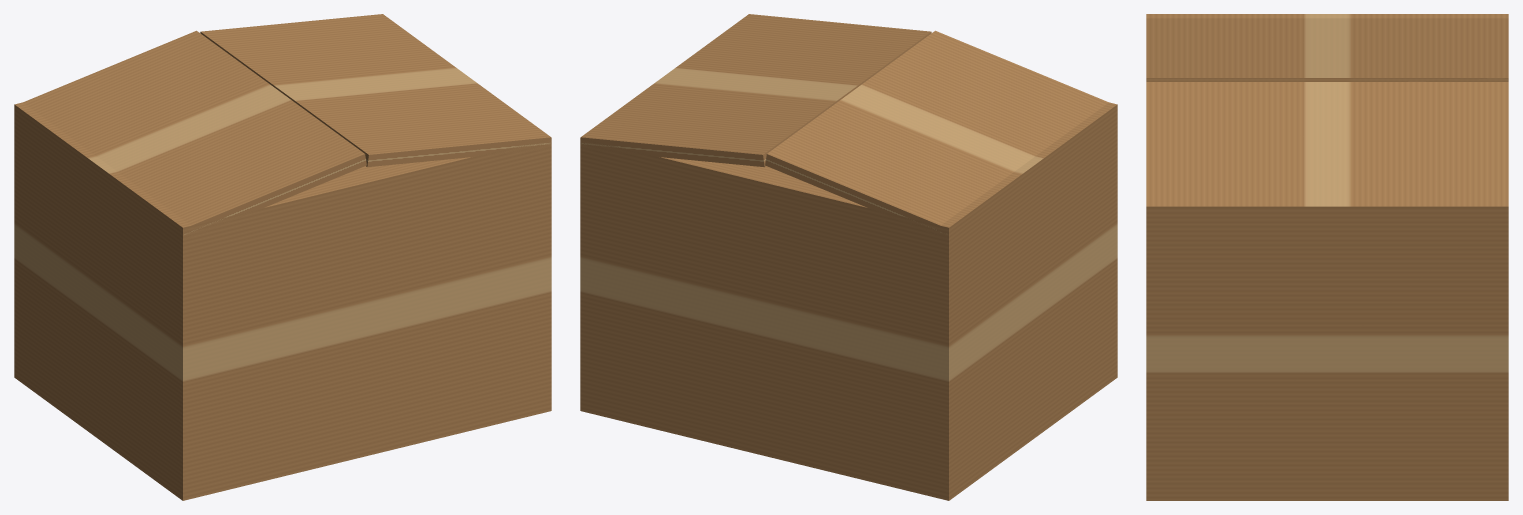
File: ch5_prop_cardboard_box.glb
The picture shows the model from 3 angles, left to right: view 1: azimuth 30°, elevation 25°; view 2: azimuth 150°, elevation 25°; view 3: azimuth 270°, elevation 25°; orthographic projection. The views are drawn at different scales.
Visible parts, largest first — view 1: ch5_prop_cardboard_box; view 2: ch5_prop_cardboard_box; view 3: ch5_prop_cardboard_box.
Boxes of the visible parts, x1=… form: ch5_prop_cardboard_box: x1=14, y1=14, x2=551, y2=500; ch5_prop_cardboard_box: x1=580, y1=14, x2=1117, y2=500; ch5_prop_cardboard_box: x1=1146, y1=14, x2=1508, y2=500.
Size of the model in its own units: 0.48 by 0.3765 by 0.38.
Materials: 1 (1 with a texture image).
